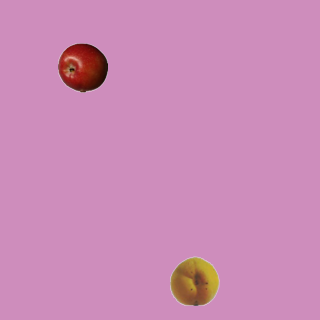Apple Braeburn: (57, 42, 107, 92)
Peach 2: (169, 255, 219, 305)
